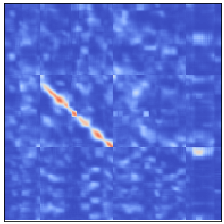action_path: (37, 75, 112, 149)
